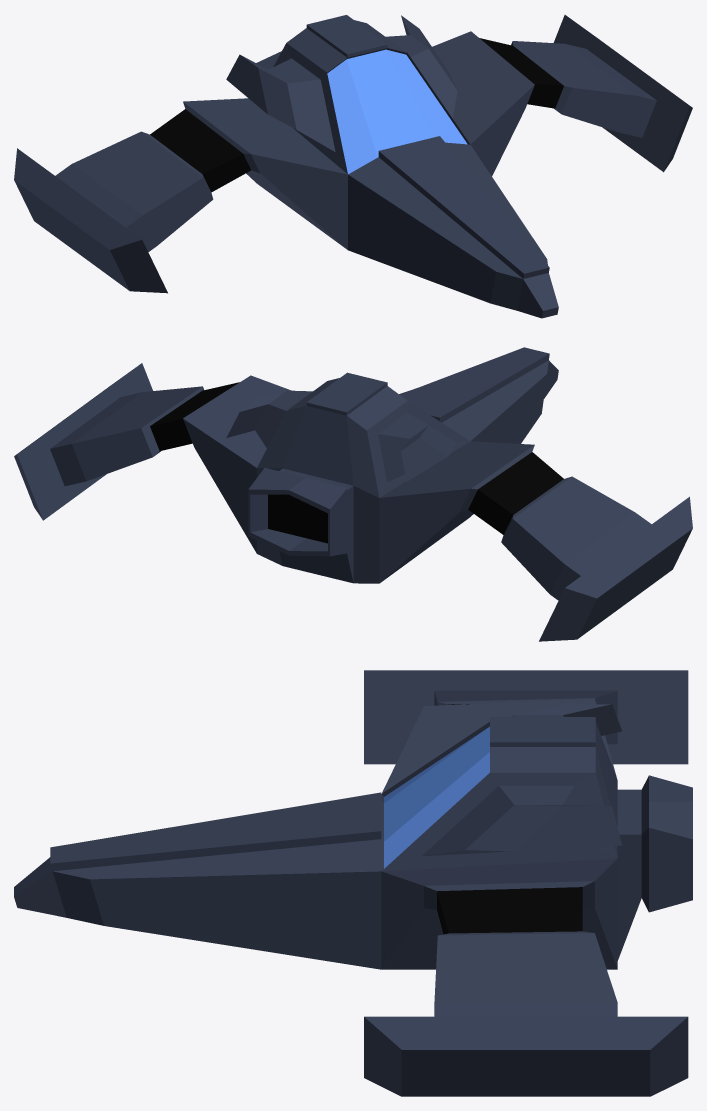
The model's file is ProtoRaptor.glb.
3 views of the same model, one above another, from view 1: azimuth 30°, elevation 25°; view 2: azimuth 150°, elevation 25°; view 3: azimuth 270°, elevation 25° (orthographic). The views are drawn at different scales.
Visible parts, largest first — view 1: ProtoRaptor; view 2: ProtoRaptor; view 3: ProtoRaptor.
Boxes of the visible parts, <box> form: ProtoRaptor: <box>14,15,692,318</box>; ProtoRaptor: <box>14,347,692,641</box>; ProtoRaptor: <box>14,670,692,1096</box>.
Size of the model in its own units: 9.52 by 2.52 by 7.41.
Materials: 1 (1 with a texture image).
